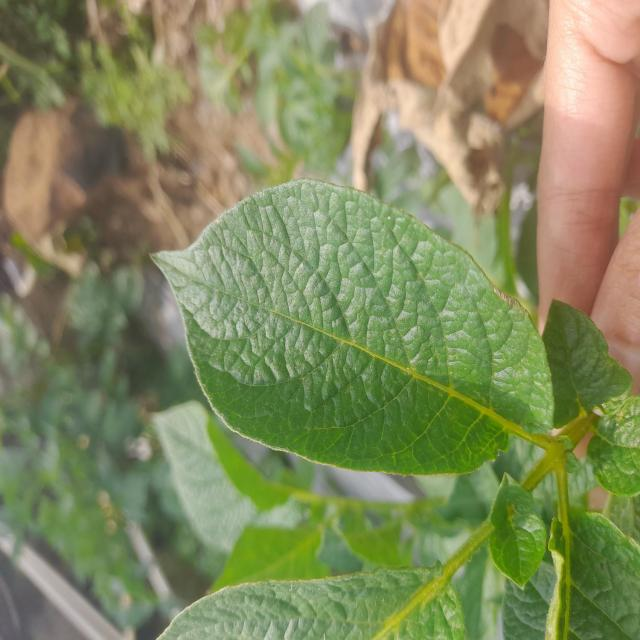healthy: (147, 176, 558, 480)
